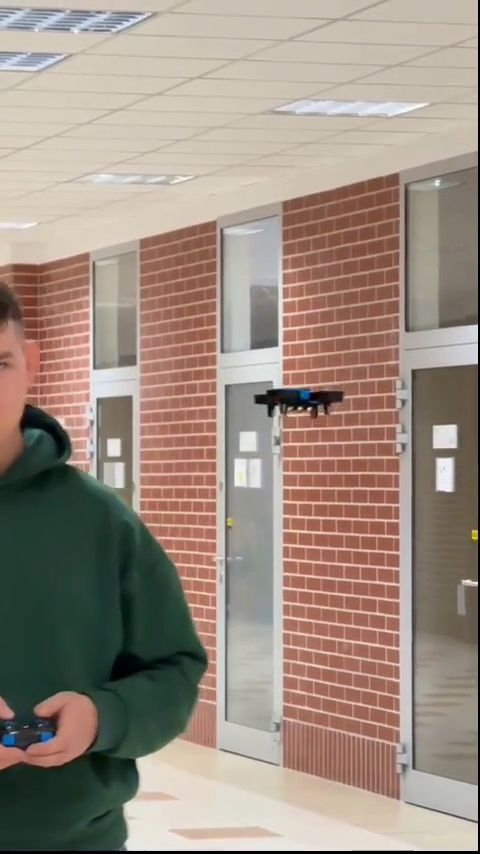drone: (254, 386, 340, 416)
no vest: (0, 277, 206, 848)
